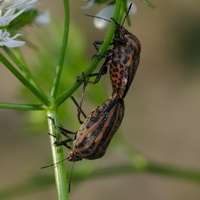insect: (47, 0, 139, 199)
